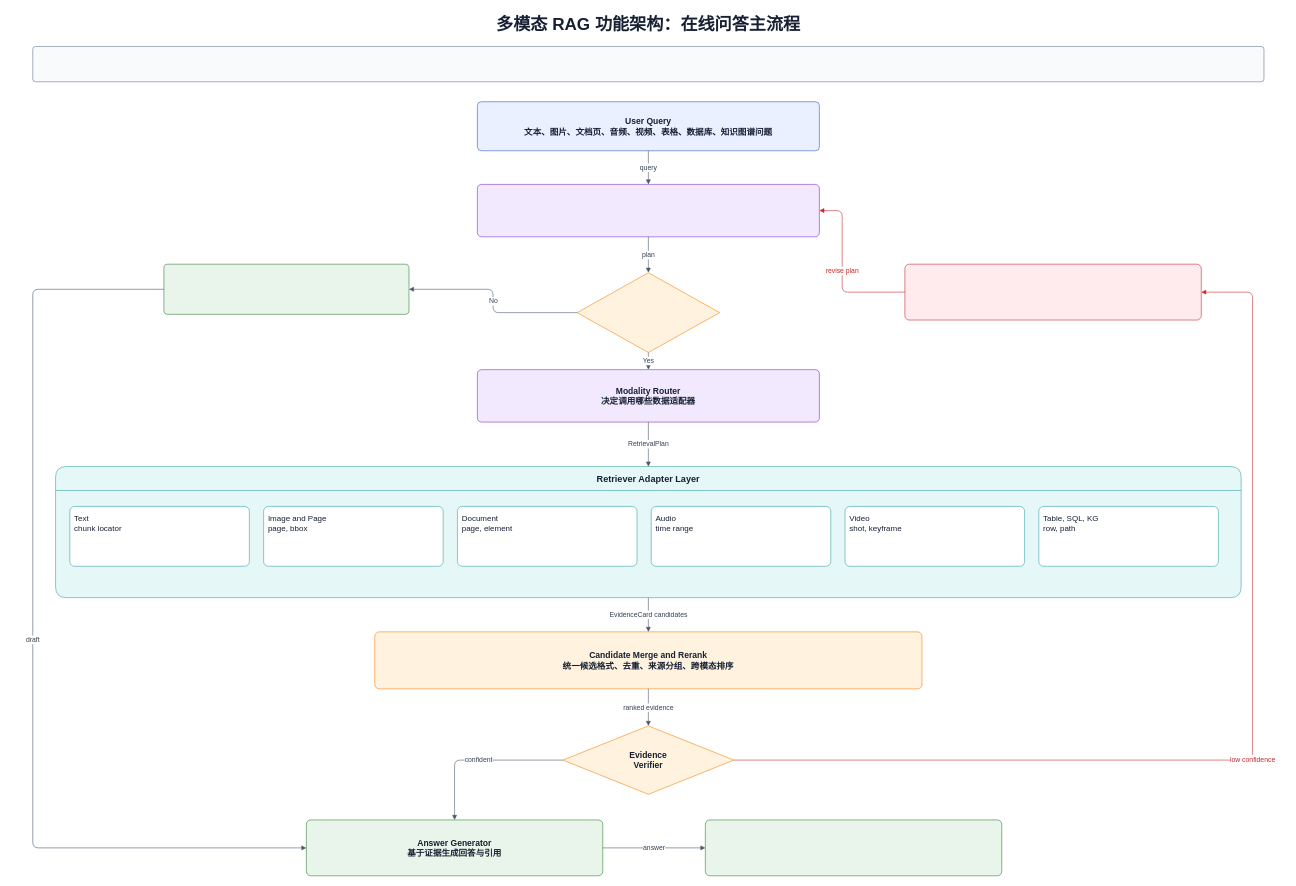
Some shapes in this 1296 by 886 pixel diagram are drawn without their labels. The shapes that lost their labels are listed below. From the top down, each one's centre as x and y in pixels, then its label:
At (648,64): "Scope：本页只表达功能流程与分支关系，不承载具体工具选型。技术候选、baseline、ablation 和实验进度放到独立文档维护。".
At (648,210): "Query Planner 意图识别、任务拆解、检索预算、停止条件".
At (286,289): "Direct Generator 不需要外部证据时生成草稿".
At (1052,292): "Reflection and Retry 低置信、证据不足、证据冲突时重试".
At (648,312): "Need Retrieval?".
At (853,847): "Grounded Answer 答案、引用、定位信息、置信度".
